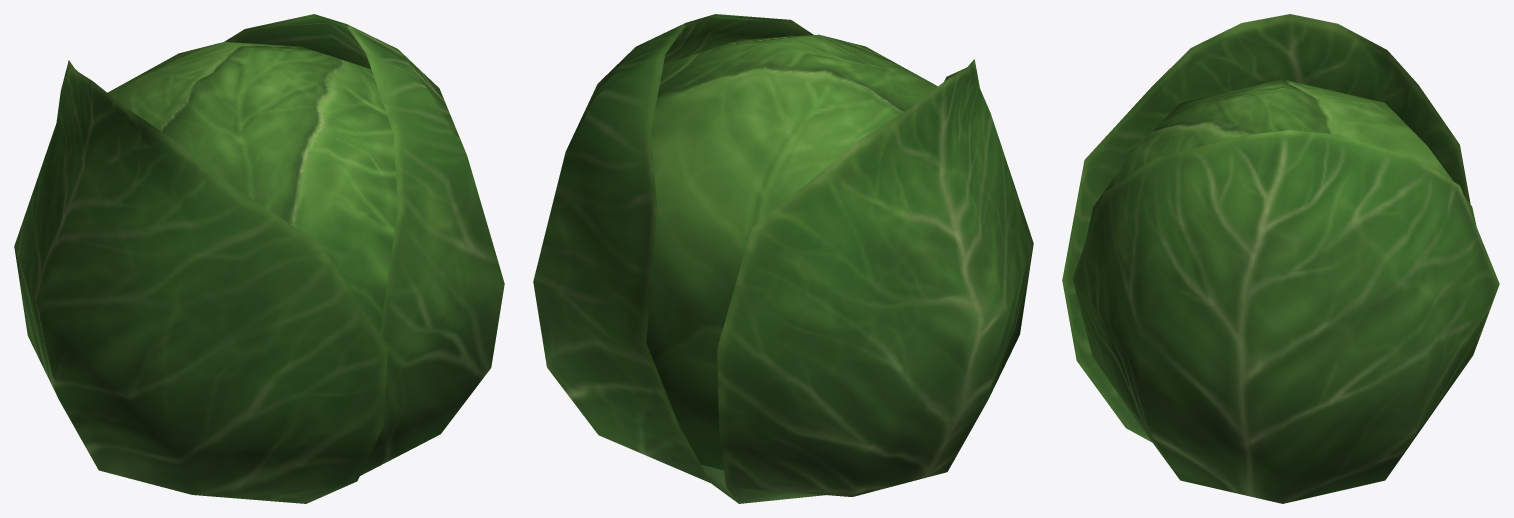
The model's file is cabbag.fbx.
3 views of the same model, side by side, from view 1: azimuth 30°, elevation 25°; view 2: azimuth 150°, elevation 25°; view 3: azimuth 270°, elevation 25° (orthographic). The views are drawn at different scales.
Visible parts, largest first — view 1: cabbag_Mesh; view 2: cabbag_Mesh; view 3: cabbag_Mesh.
Boxes of the visible parts, box(x1,y1,x2,y2) form: cabbag_Mesh: box(14, 14, 504, 503); cabbag_Mesh: box(533, 14, 1033, 503); cabbag_Mesh: box(1062, 14, 1499, 503).
Bounding box in the file's own units: 44.48 × 41.92 × 42.68.
